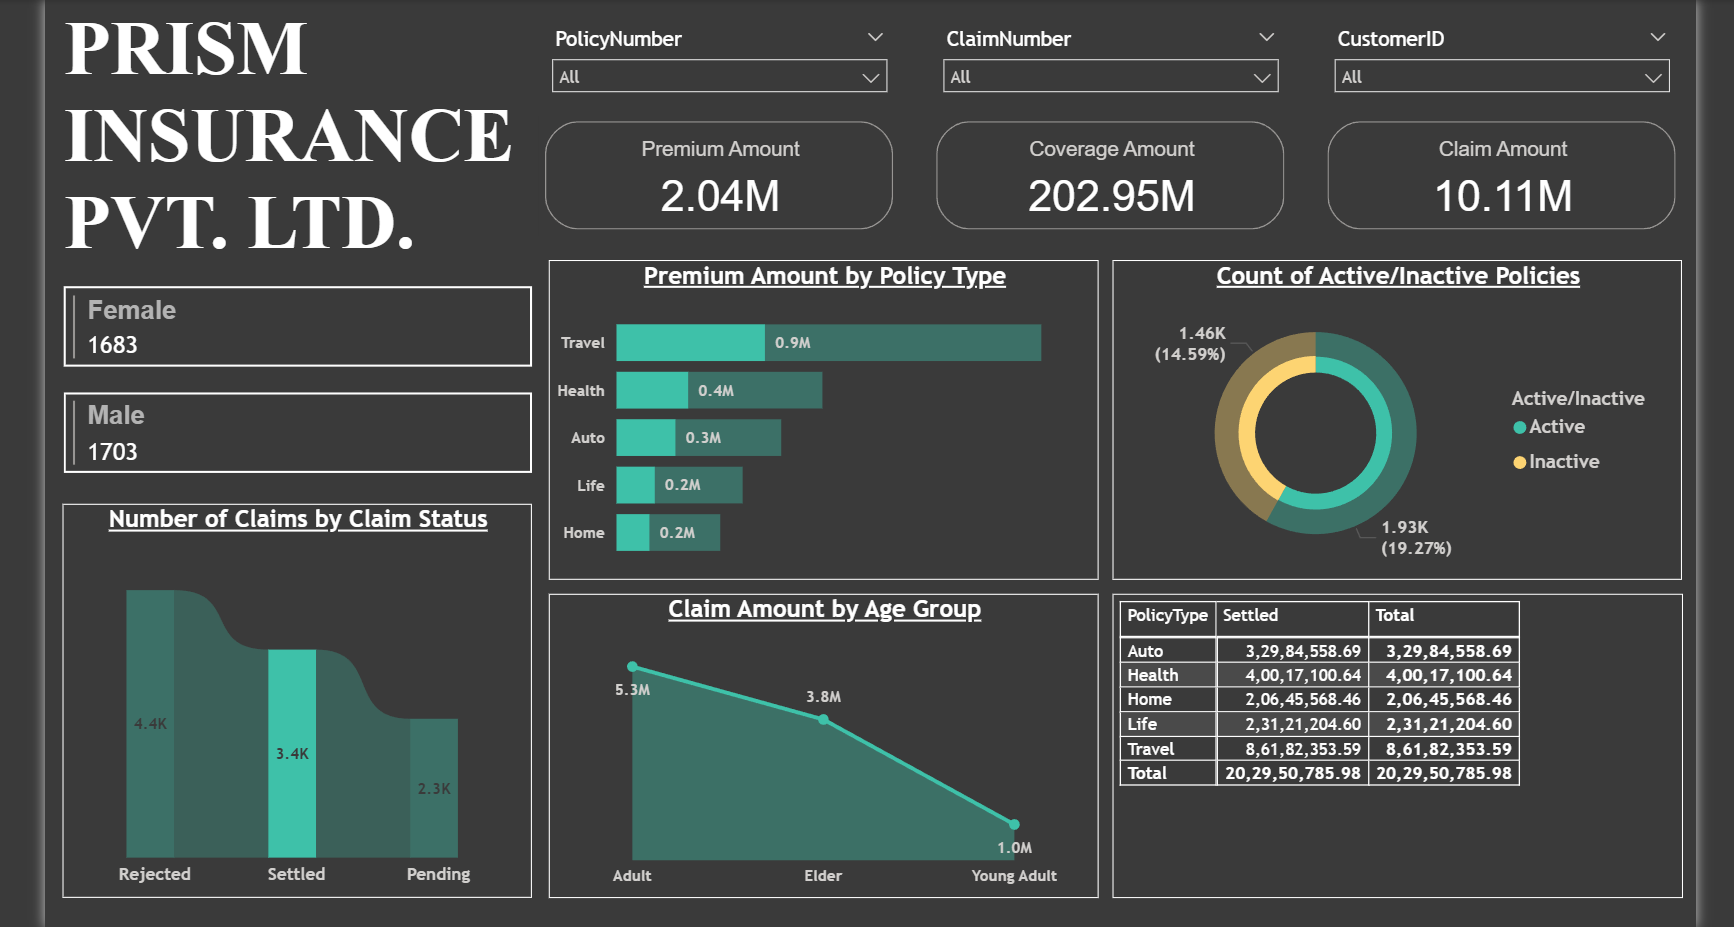

The page's visual inventory and layout, read from the dashboard file:
{"tool":"powerbi","page":{"name":"Page 1","canvas":[1280,720],"ordinal":0},"visuals":[{"type":"slicer","fields":{"Values":["insurancedb insurancedata.ï»¿PolicyNumber"]},"box":[382.6,15.1,280.2,74.4],"z":0},{"type":"slicer","fields":{"Values":["insurancedb insurancedata.ClaimNumber"]},"box":[686,15.1,280.2,74.4],"z":1000},{"type":"slicer","fields":{"Values":["insurancedb insurancedata.CustomerID"]},"box":[989.5,15.1,280.2,74.4],"z":2000},{"type":"textbox","box":[9.3,0,373.3,217.4],"z":3000},{"type":"cardVisual","fields":{"Data":["Sum(insurancedb insurancedata.PremiumAmount)"]},"box":[382.6,89.5,280.2,94.2],"z":4000},{"type":"cardVisual","fields":{"Data":["Sum(insurancedb insurancedata.CoverageAmount)"]},"box":[686,89.5,280.2,94.2],"z":5000},{"type":"cardVisual","fields":{"Data":["Sum(insurancedb insurancedata.ClaimAmount)"]},"box":[989.5,89.5,280.2,94.2],"z":6000},{"type":"multiRowCard","fields":{"Values":["insurancedb insurancedata.Gender","CountNonNull(insurancedb insurancedata.Gender)"]},"box":[9.3,217.4,373.3,181.4],"z":7000},{"type":"ribbonChart","title":"Number of Claims by Claim Status ","fields":{"Category":["insurancedb insurancedata.ClaimStatus"],"Y":["CountNonNull(insurancedb insurancedata.ClaimStatus)"]},"box":[14,390.7,364,305.8],"z":8000},{"type":"barChart","title":"Premium Amount by Policy Type","fields":{"Category":["insurancedb insurancedata.PolicyType"],"Y":["Sum(insurancedb insurancedata.PremiumAmount)"]},"box":[390.7,201.2,426.7,247.7],"z":9000},{"type":"lineChart","title":"Claim Amount by Age Group","fields":{"Category":["insurancedb insurancedata.Age Group"],"Y":["Sum(insurancedb insurancedata.ClaimAmount)"]},"box":[390.7,460.5,426.7,236],"z":10000},{"type":"donutChart","title":"Count of Active/Inactive Policies","fields":{"Category":["insurancedb insurancedata.Active/Inactive"],"Y":["CountNonNull(insurancedb insurancedata.Active/Inactive)"]},"box":[827.9,201.2,441.9,247.7],"z":11000},{"type":"pivotTable","fields":{"Values":["Sum(insurancedb insurancedata.CoverageAmount)"],"Rows":["insurancedb insurancedata.PolicyType"],"Columns":["insurancedb insurancedata.ClaimStatus"]},"box":[828,460,442,236],"z":12000}]}

Visuals, with their boxes in screenshot pixels (x1, y1, x2, y2):
slicer - insurancedb insurancedata.ï»¿PolicyNumber: (x1=548, y1=28, x2=904, y2=123)
slicer - insurancedb insurancedata.ClaimNumber: (x1=933, y1=28, x2=1288, y2=123)
slicer - insurancedb insurancedata.CustomerID: (x1=1318, y1=28, x2=1673, y2=123)
textbox: (x1=75, y1=9, x2=548, y2=285)
cardVisual - Sum(insurancedb insurancedata.PremiumAmount): (x1=548, y1=123, x2=904, y2=242)
cardVisual - Sum(insurancedb insurancedata.CoverageAmount): (x1=933, y1=123, x2=1288, y2=242)
cardVisual - Sum(insurancedb insurancedata.ClaimAmount): (x1=1318, y1=123, x2=1673, y2=242)
multiRowCard - insurancedb insurancedata.Gender x CountNonNull(insurancedb insurancedata.Gender): (x1=75, y1=285, x2=548, y2=515)
"Number of Claims by Claim Status " ribbonChart: (x1=81, y1=504, x2=542, y2=892)
"Premium Amount by Policy Type" barChart: (x1=559, y1=264, x2=1100, y2=578)
"Claim Amount by Age Group" lineChart: (x1=559, y1=593, x2=1100, y2=892)
"Count of Active/Inactive Policies" donutChart: (x1=1113, y1=264, x2=1673, y2=578)
pivotTable - Sum(insurancedb insurancedata.CoverageAmount) x insurancedb insurancedata.PolicyType: (x1=1113, y1=592, x2=1673, y2=892)
